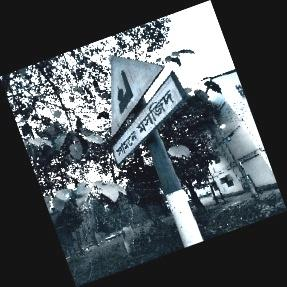Mosque in front: (109, 55, 191, 167)
